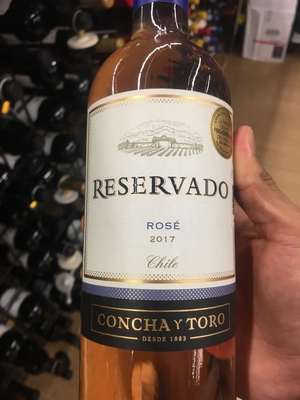reservado rose: (82, 1, 236, 400)
